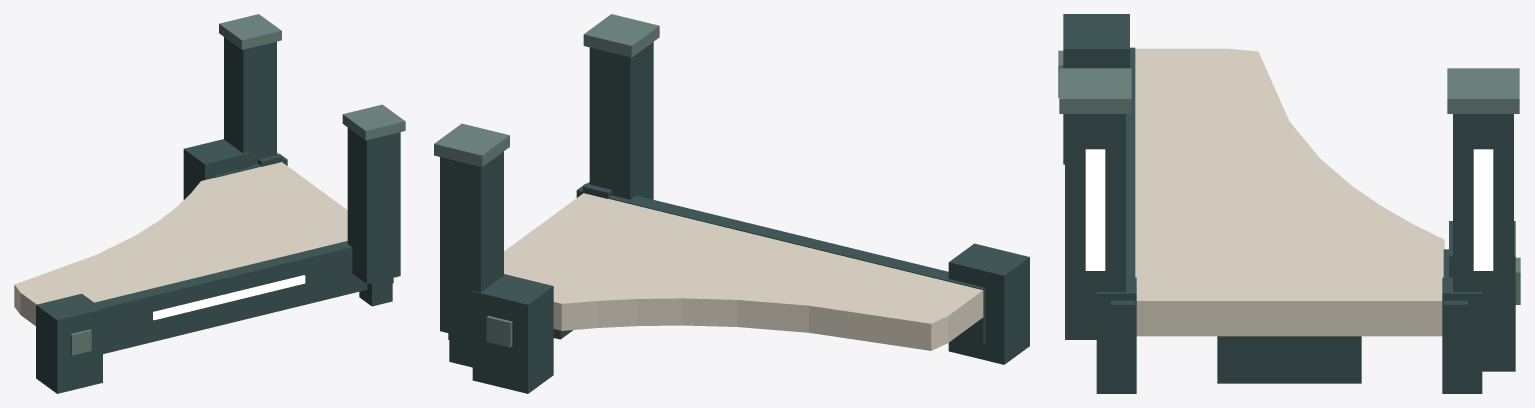
Rendered from Pier_Angled_75_Switch_lab.glb.
3 renders of one model, left to right at view 1: azimuth 30°, elevation 25°; view 2: azimuth 150°, elevation 25°; view 3: azimuth 270°, elevation 25°, orthographic. The views are drawn at different scales.
Parts seen in each view (by area): view 1: Pier_Angled_75_Switch; view 2: Pier_Angled_75_Switch; view 3: Pier_Angled_75_Switch.
Part boxes in pixels (x1,y1,x2,y2): Pier_Angled_75_Switch: (14, 14, 405, 393); Pier_Angled_75_Switch: (434, 14, 1029, 393); Pier_Angled_75_Switch: (1058, 14, 1520, 393).
Size of the model in its own units: 5.75 by 2.95 by 4.17.
